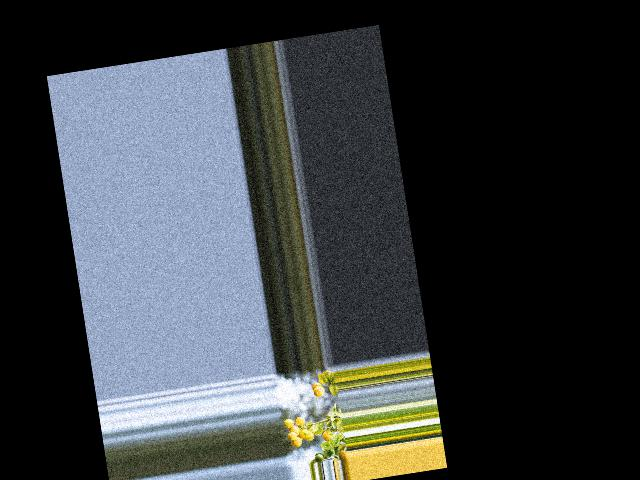lemon: (287, 435, 302, 447)
